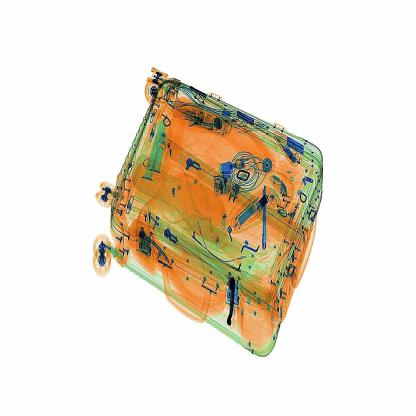pliers: (260, 184, 272, 260)
